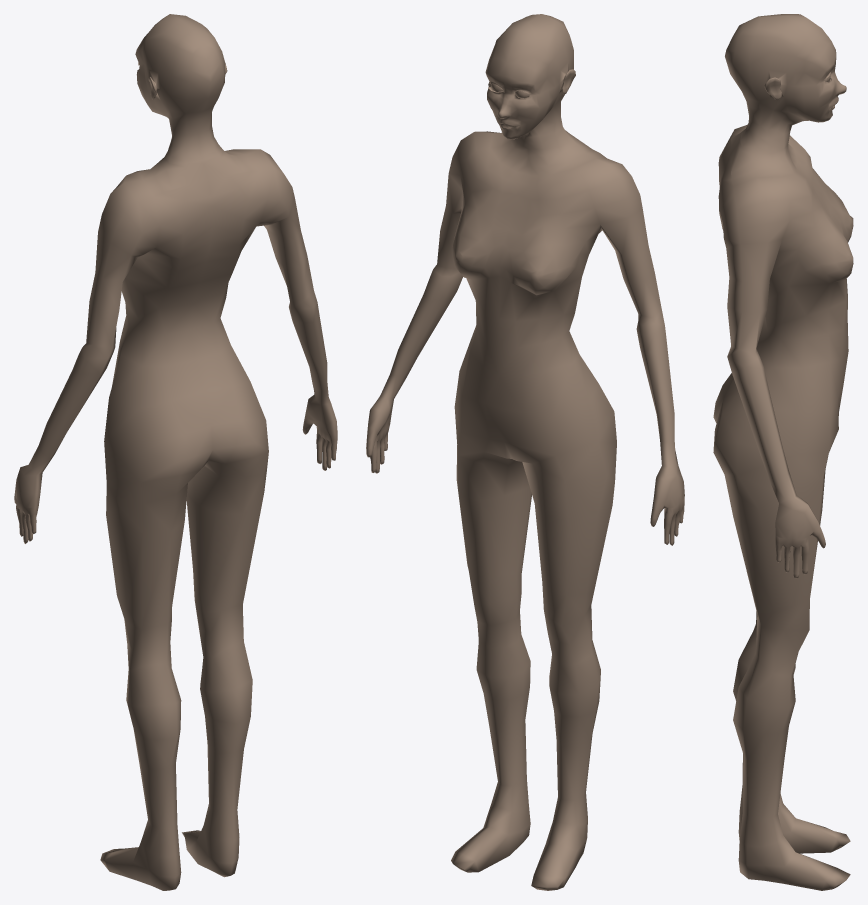
The model's file is Cuerpo.FBX.
The picture shows the model from 3 angles, left to right: view 1: azimuth 30°, elevation 25°; view 2: azimuth 150°, elevation 25°; view 3: azimuth 270°, elevation 25°; orthographic projection.
Parts seen in each view (by area): view 1: Default; view 2: Default; view 3: Default.
Part boxes in pixels (x1,y1,x2,y2): Default: (14, 14, 337, 890); Default: (366, 14, 684, 890); Default: (713, 14, 853, 890).
Size of the model in its own units: 2.1 by 5.49 by 0.819.
